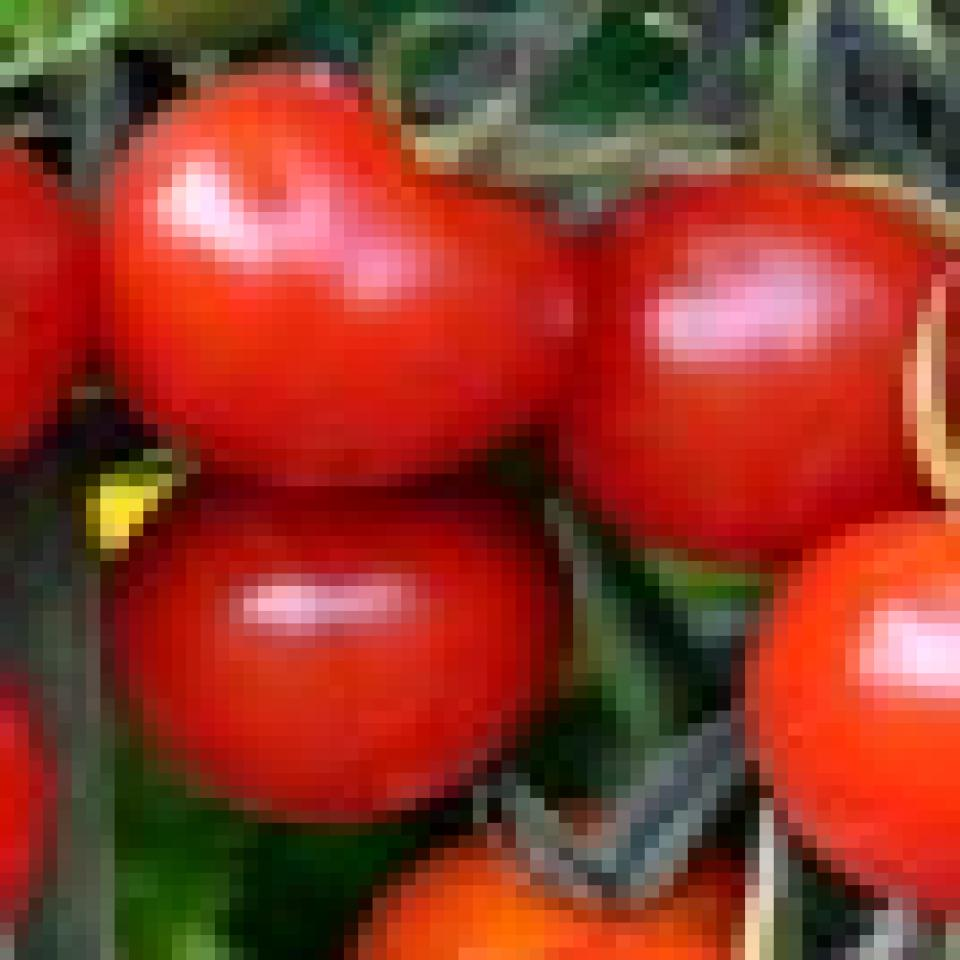Healthy: (119, 67, 570, 481), (114, 449, 563, 813), (559, 162, 960, 536), (754, 522, 955, 939)
